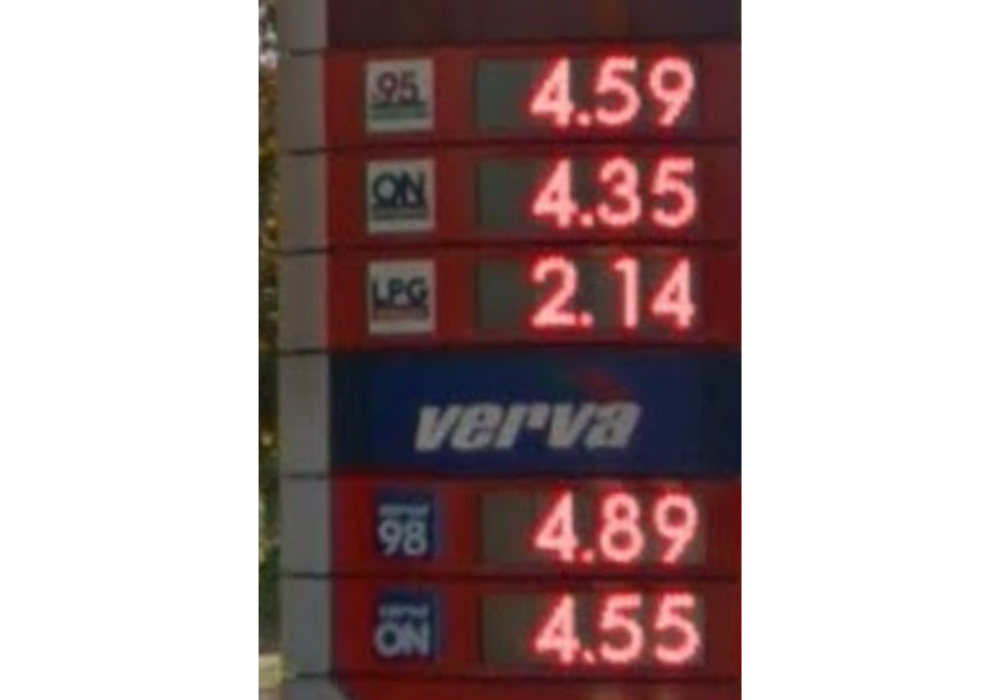LPG: (364, 255, 437, 333)
ON: (366, 586, 439, 665), (365, 156, 434, 229)
PB95: (365, 56, 436, 132)
PB98: (369, 485, 440, 566)
